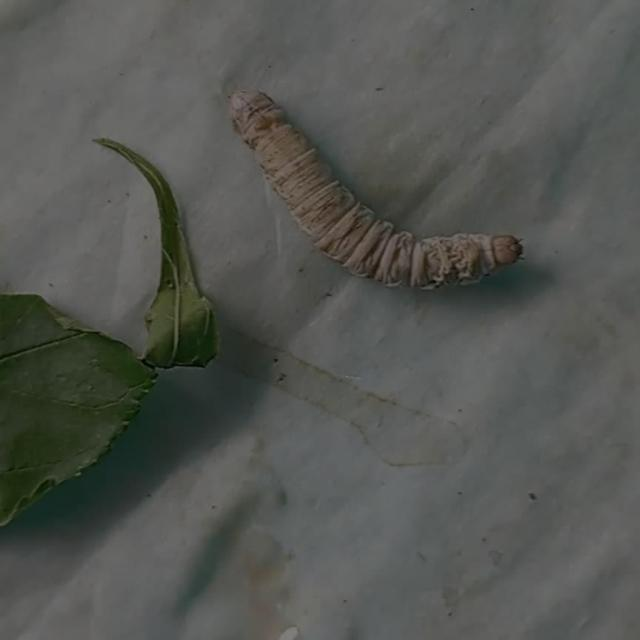Grasserie: (203, 61, 541, 316)
